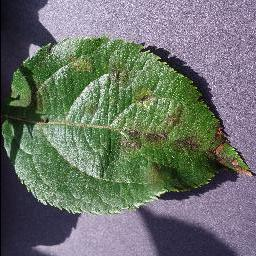apple healthy: (2, 34, 254, 216)
